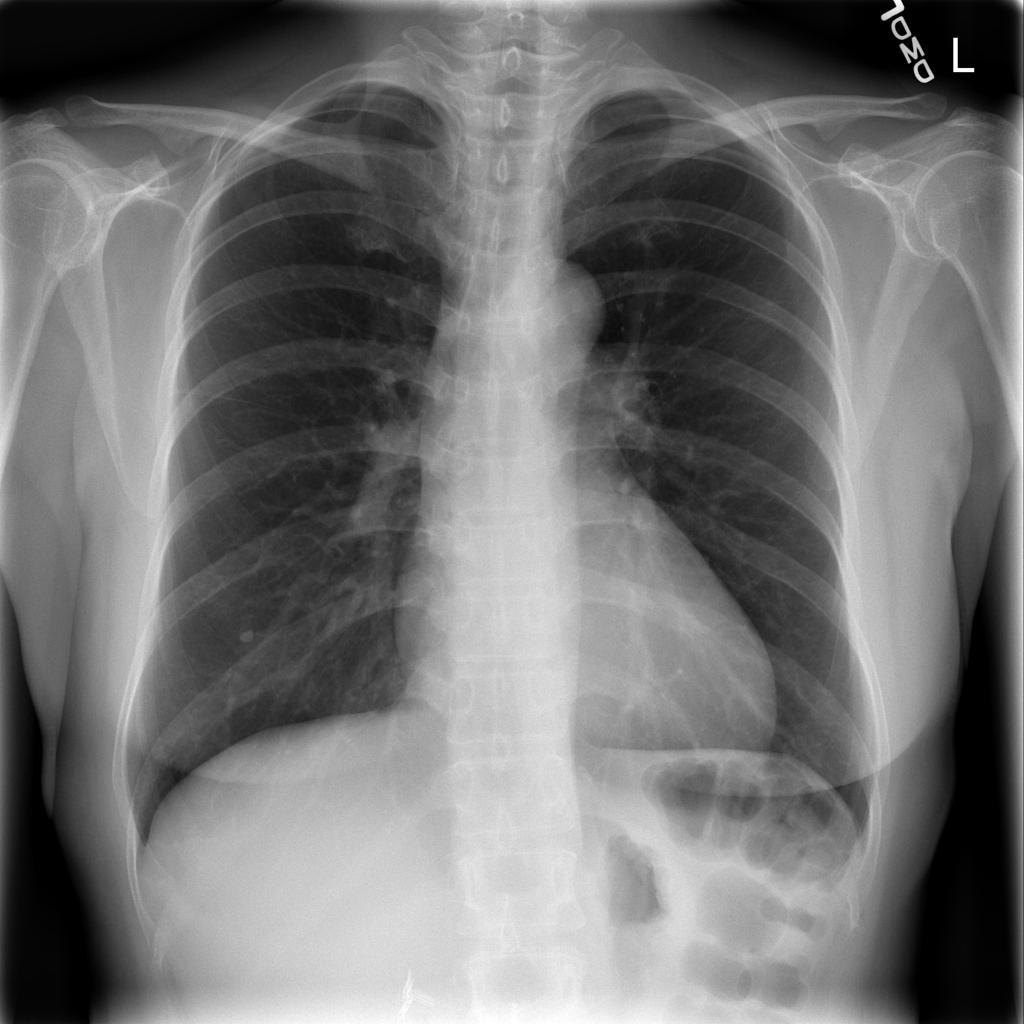nodule: (230, 614, 265, 652)
